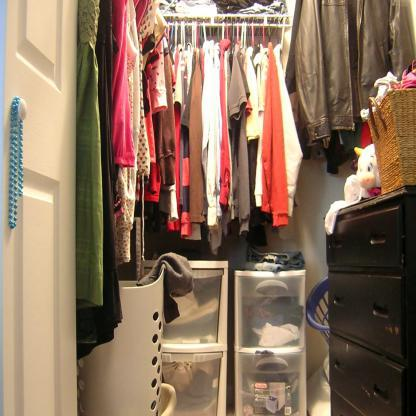door: (0, 0, 79, 415)
knob: (16, 96, 29, 125)
